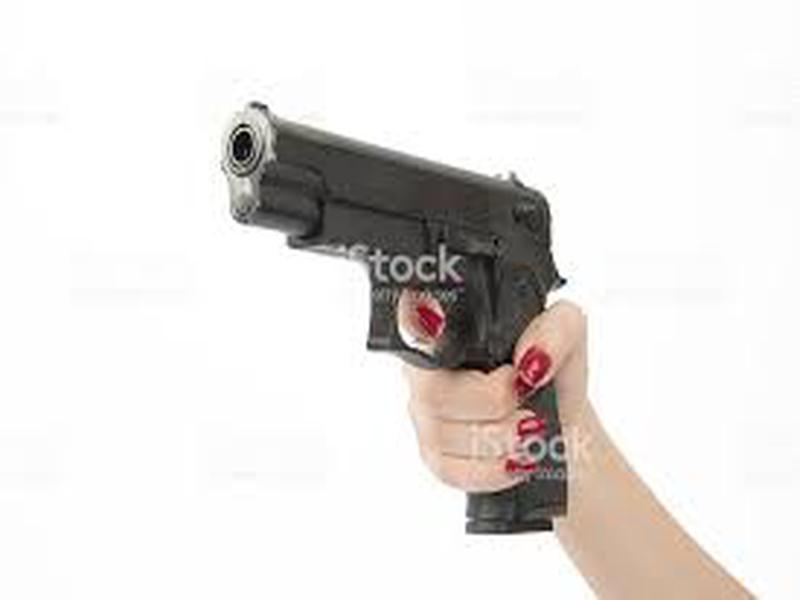gun: (224, 97, 596, 549)
